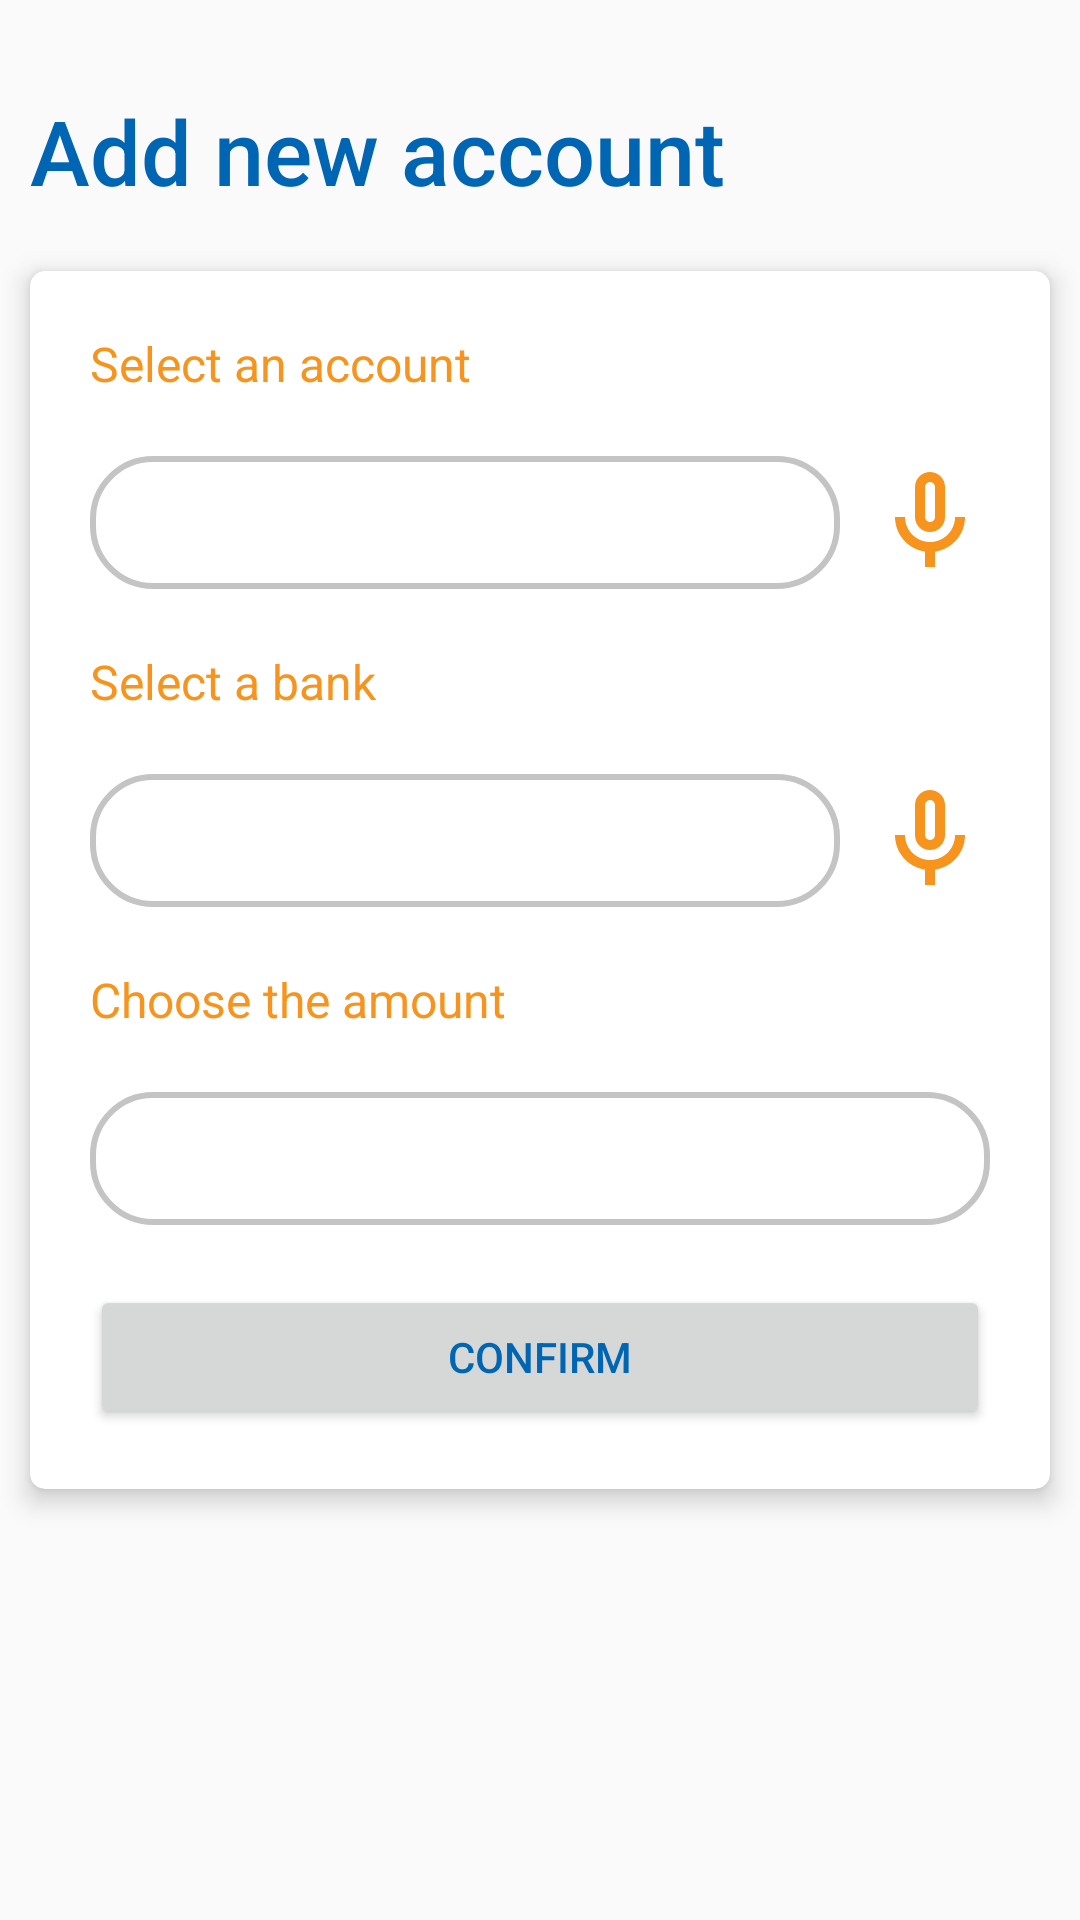

Icon click points for this 1080px×1920px phone screenshot, format [x,y]:
mic none: [930,519], [930,837]
